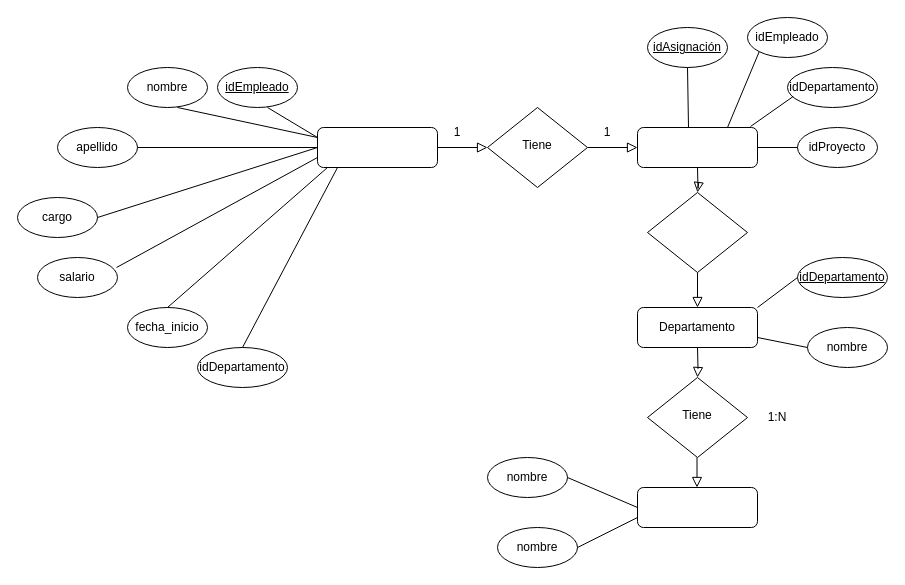
This 905x585 diagram has some shape labels left out. The shapes that lost their labels are listed below. From the top down, each one's centre as x and y in pixels, then its label:
At pixel 377 147: "Empleado".
At pixel 697 147: "Asignación".
At pixel 697 232: "Se compone".
At pixel 697 507: "Proyectos".
